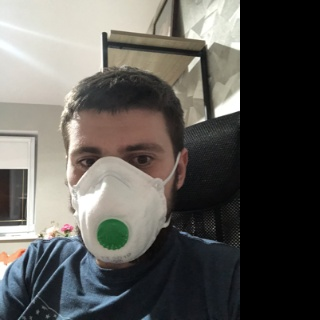with_mask: (64, 139, 177, 264)
